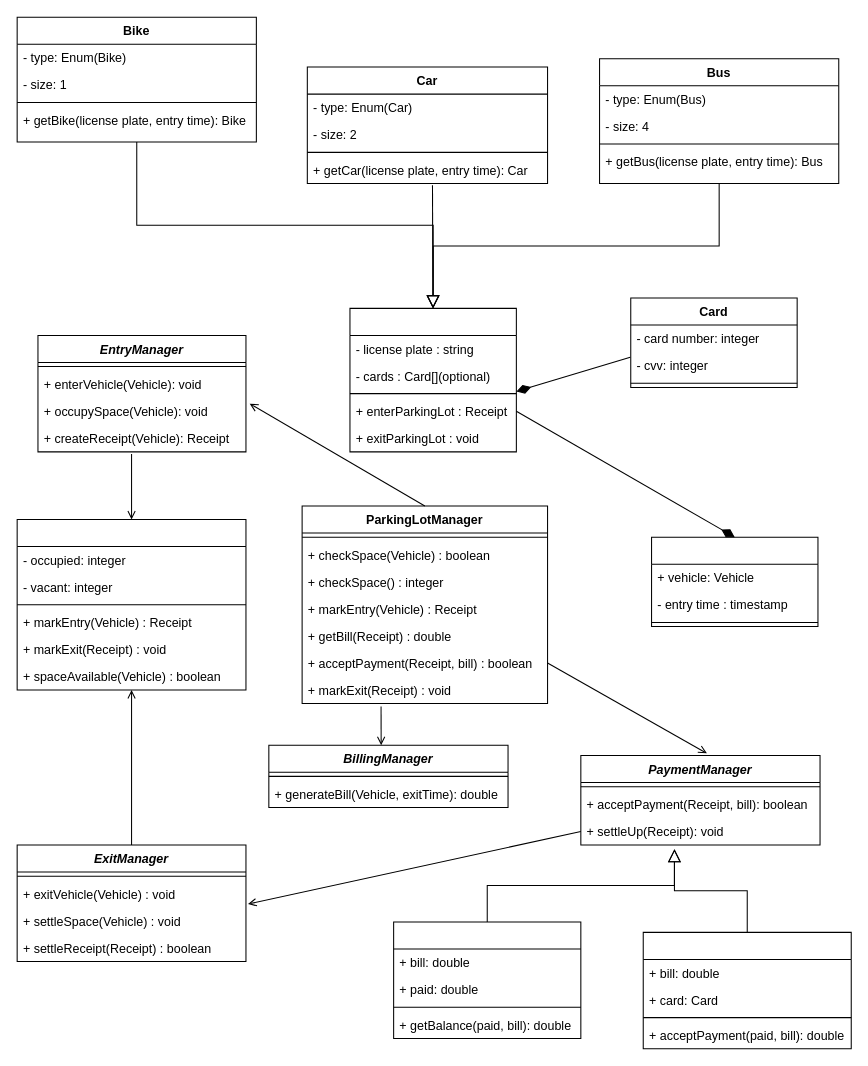
This 868x1066 diagram has some shape labels left out. Here are the shapes that lost their labels. From the top down, the box of each, then its label:
(349, 307, 516, 452): Vehicle
(651, 536, 818, 627): Receipt
(16, 518, 246, 690): ParkingSpaceManager
(393, 921, 581, 1038): CashPaymentManager
(642, 931, 851, 1049): CardPaymentManager
